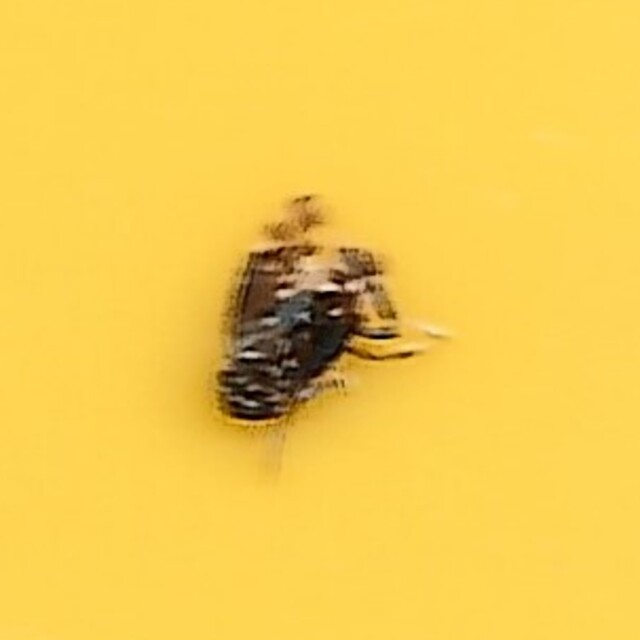Hemiptera: (211, 193, 429, 447)
